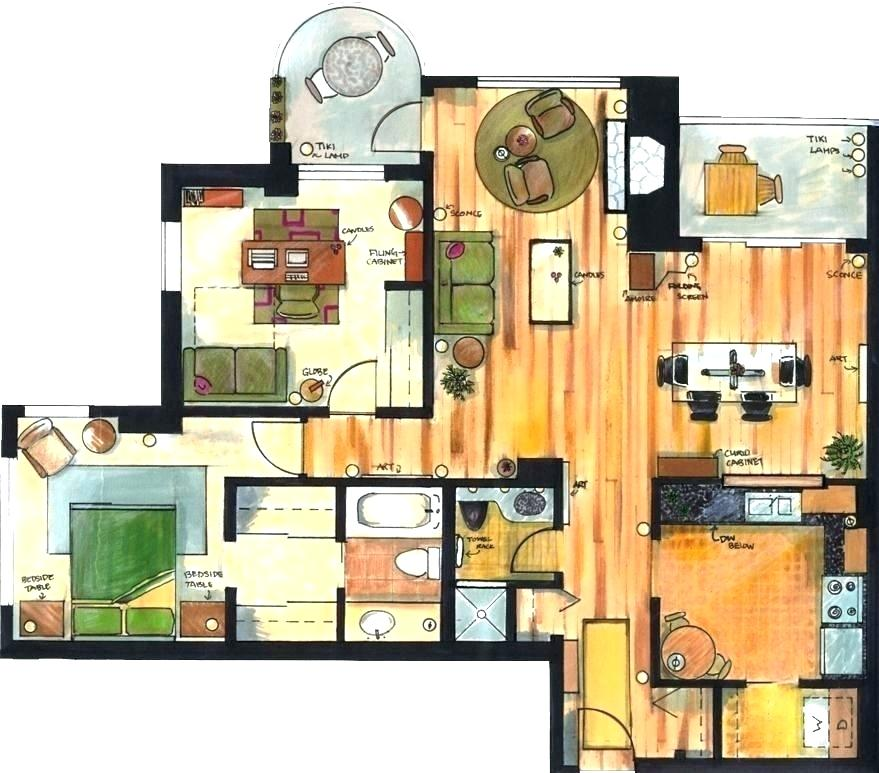room: (160, 164, 433, 418), (627, 238, 878, 484), (1, 405, 237, 660), (650, 477, 879, 689), (336, 480, 454, 660)
